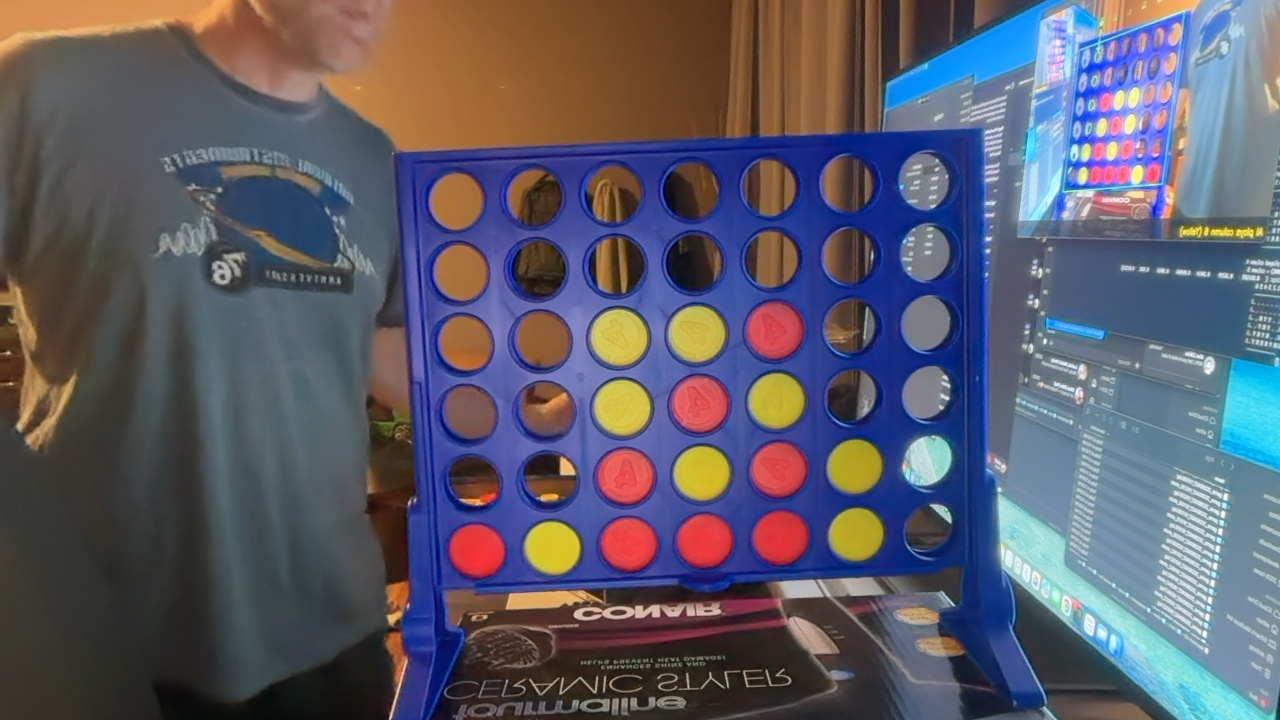red piece: (745, 300, 804, 360), (669, 375, 729, 433), (595, 448, 655, 505), (749, 441, 807, 498), (752, 510, 809, 566), (676, 514, 733, 569), (600, 517, 657, 572), (448, 524, 505, 578)
yellow piece: (588, 308, 649, 368), (667, 304, 727, 363), (592, 379, 652, 437), (747, 372, 805, 430), (673, 445, 731, 501), (826, 439, 883, 494), (523, 521, 581, 575), (828, 508, 884, 561)
